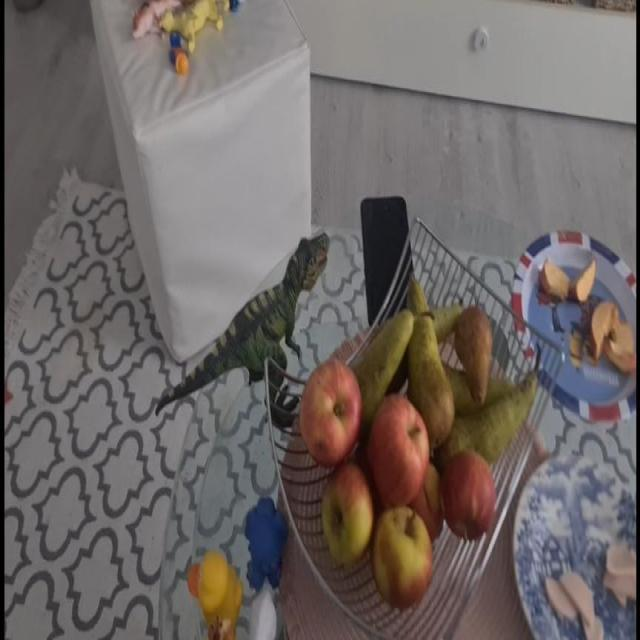hard-toy: (157, 236, 330, 412), (160, 1, 230, 47)
